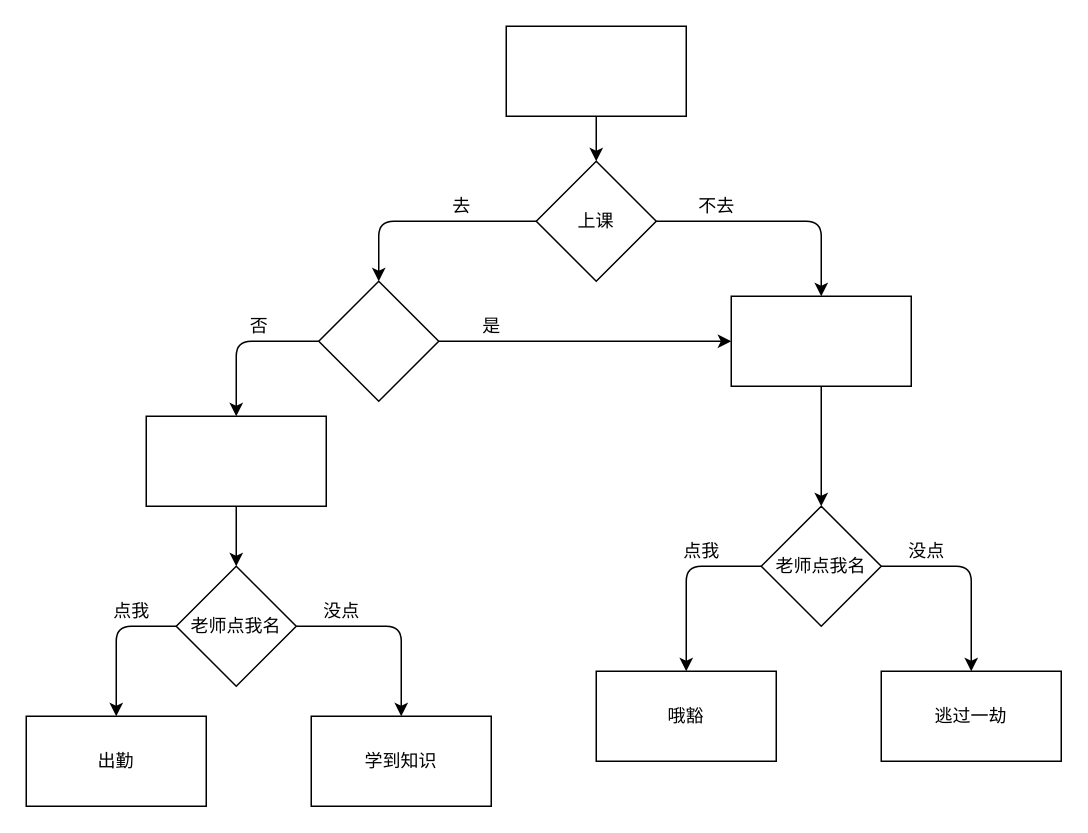
The diagram is 1088 pixels wide and 833 high, and some of its shapes have lost their labels. The shapes that lost their labels are listed below. From the top down, each one's centre as x and y in pixels, then its label:
At point (595, 70): "早上第一讲上网课".
At point (378, 340): "用手机挂着继续睡".
At point (820, 340): "埋头继续睡".
At point (235, 460): "认真上课".
